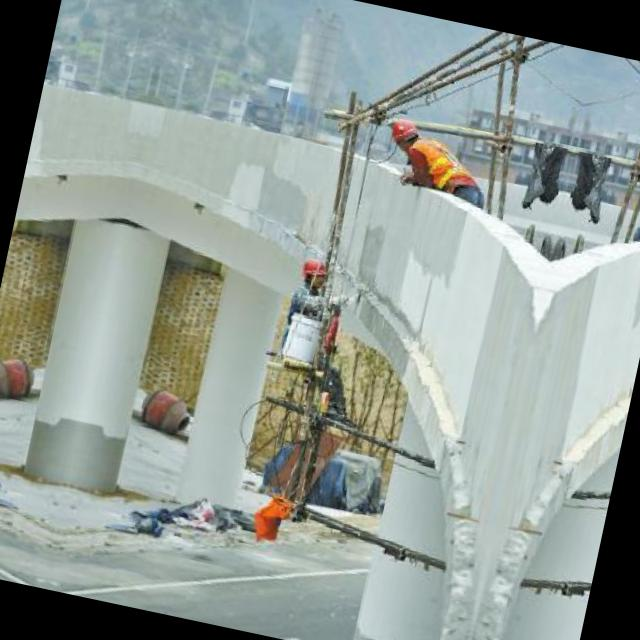helmet: (386, 114, 422, 156), (296, 253, 330, 293)
